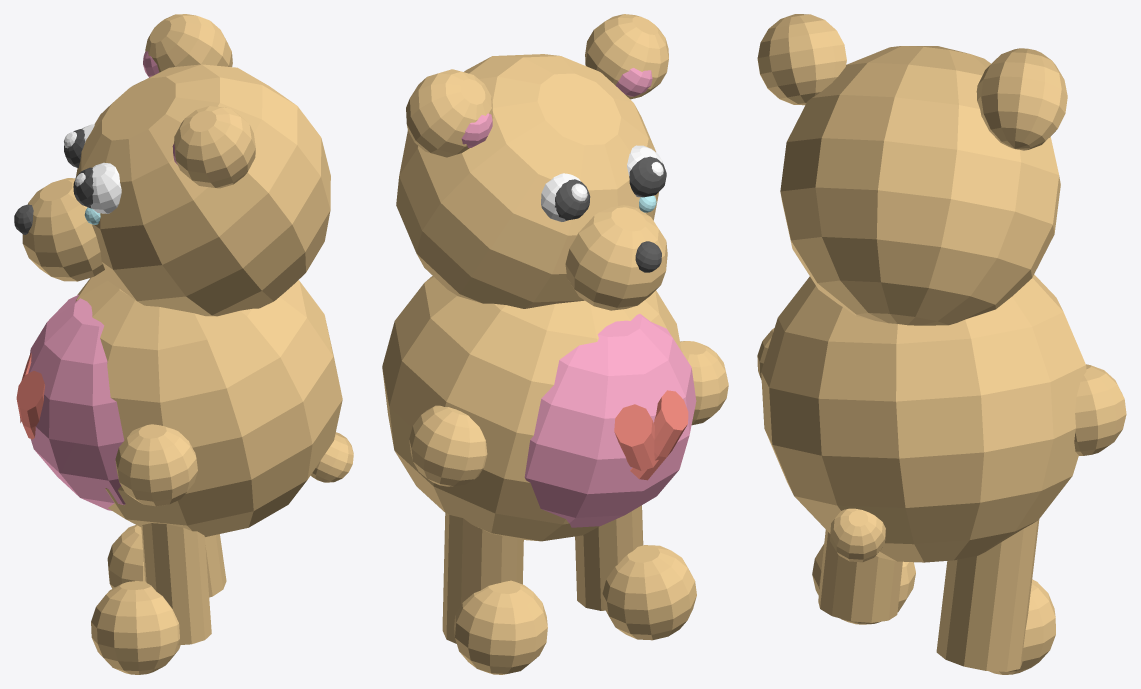
Rendered from SadBear.dae.
3 views of the same model, side by side, from view 1: azimuth 30°, elevation 25°; view 2: azimuth 150°, elevation 25°; view 3: azimuth 270°, elevation 25° (orthographic). The views are drawn at different scales.
Parts seen in each view (by area): view 1: group1278050524, group473148855, group1034098689, group825822721, group1202285346, group2137332157, group1243246218, group780897455, group396830958, group161257403, group592242773, group1365218413 (+3 smaller); view 2: group1278050524, group473148855, group1034098689, group2137332157, group161257403, group825822721, group1330410696, group396830958, group1237643154, group1243246218, group1202285346, group780897455 (+8 smaller); view 3: group473148855, group1278050524, group1330410696, group396830958, group1243246218, group1202285346, group1237643154, group1365218413, group161257403, group825822721.
Boxes of the visible parts, x1,y1,x2,y2 form: group1278050524: (75, 64, 330, 316); group473148855: (75, 272, 342, 536); group1034098689: (28, 294, 125, 510); group825822721: (91, 581, 180, 674); group1202285346: (141, 523, 211, 645); group2137332157: (22, 178, 104, 281); group1243246218: (174, 106, 255, 188); group780897455: (115, 424, 197, 506); group396830958: (145, 14, 232, 72); group161257403: (107, 525, 145, 588); group592242773: (16, 371, 45, 439); group1365218413: (310, 432, 353, 482); group1278050524: (396, 54, 658, 308); group473148855: (382, 275, 681, 541); group1034098689: (524, 314, 696, 527); group2137332157: (565, 205, 667, 310); group161257403: (454, 580, 547, 674); group825822721: (602, 545, 696, 640); group1330410696: (442, 513, 523, 643); group396830958: (406, 69, 493, 157); group1237643154: (409, 405, 487, 486); group1243246218: (585, 14, 668, 99); group1202285346: (575, 505, 643, 610); group780897455: (680, 341, 728, 425); group473148855: (761, 274, 1086, 562); group1278050524: (780, 46, 1060, 325); group1330410696: (936, 519, 1039, 671); group396830958: (976, 48, 1067, 150); group1243246218: (757, 14, 846, 105); group1202285346: (818, 529, 902, 622); group1237643154: (1074, 364, 1126, 455); group1365218413: (830, 508, 885, 562); group161257403: (989, 579, 1055, 674); group825822721: (812, 543, 915, 624).
Bounding box in the file's own units: 0.3172 × 0.3194 × 0.6092.
